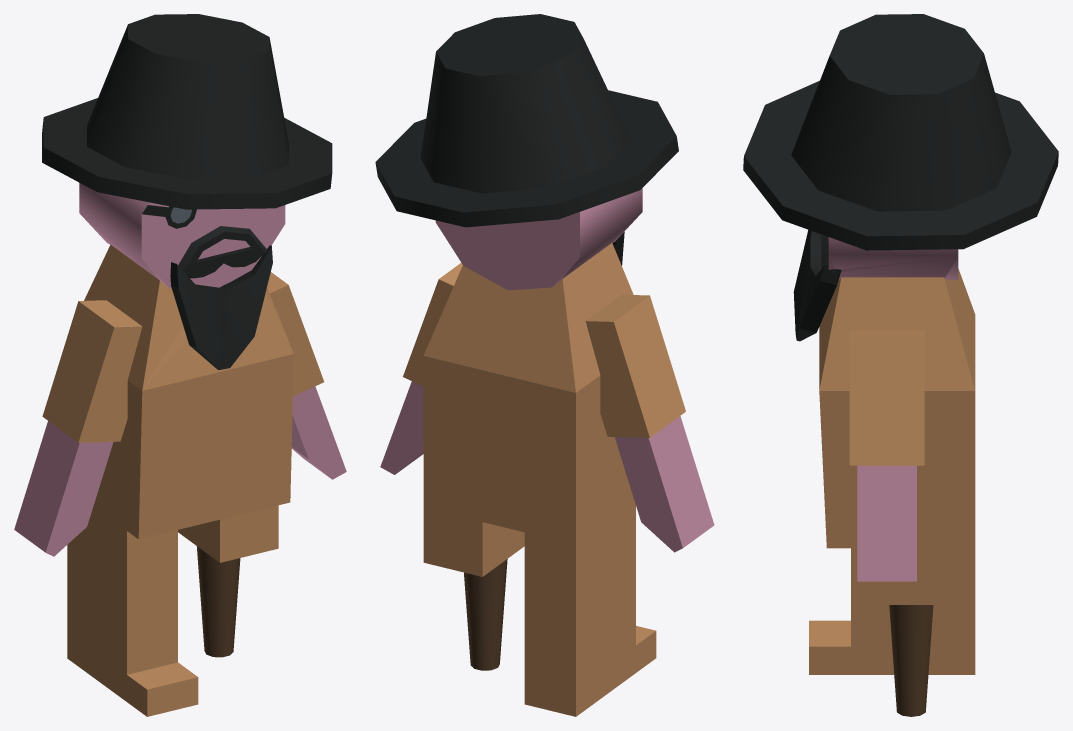
File: preCaptain.fbx
The picture shows the model from 3 angles, left to right: view 1: azimuth 30°, elevation 25°; view 2: azimuth 150°, elevation 25°; view 3: azimuth 270°, elevation 25°; orthographic projection. The views are drawn at different scales.
Visible parts, largest first — view 1: Model; view 2: Model; view 3: Model.
Boxes of the visible parts, left/top/right/bottom form: Model: left=14, top=14, right=346, bottom=716; Model: left=375, top=14, right=714, bottom=716; Model: left=743, top=14, right=1058, bottom=716.
Bounding box in the file's own units: 124 × 248 × 108.
